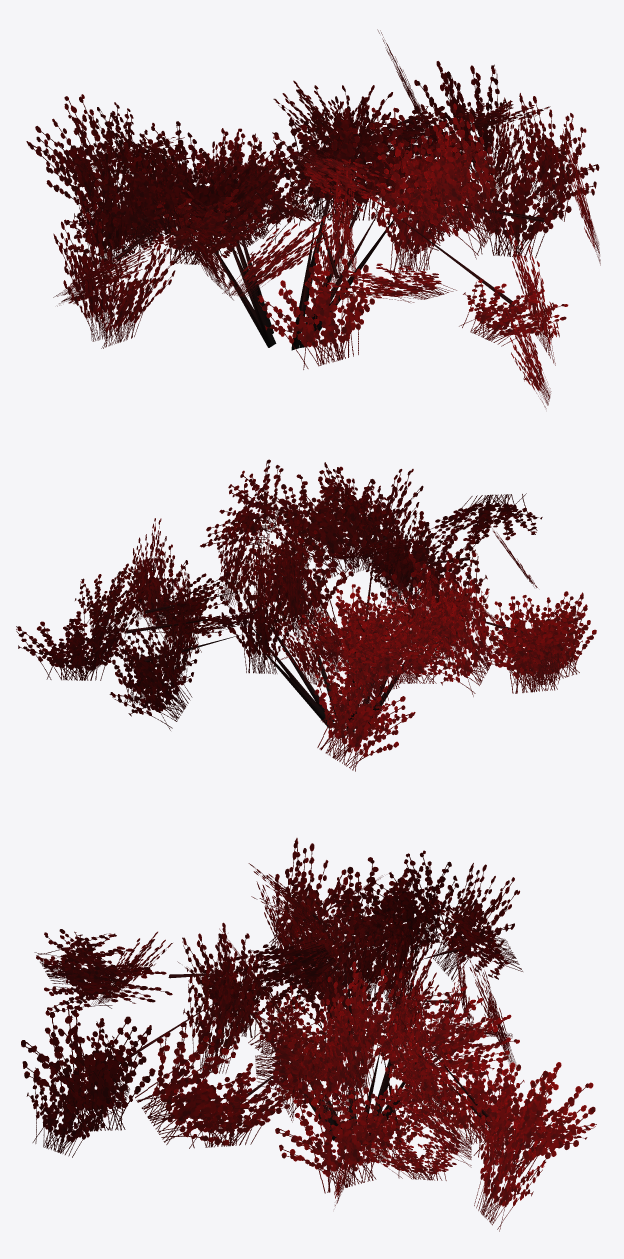
File: bush_highlands_heather_a_lod2.glb
3 renders of one model, top to bottom at view 1: azimuth 30°, elevation 25°; view 2: azimuth 150°, elevation 25°; view 3: azimuth 270°, elevation 25°, orthographic. The views are drawn at different scales.
Parts seen in each view (by area): view 1: bush_highlands_heather_a; view 2: bush_highlands_heather_a; view 3: bush_highlands_heather_a.
Boxes of the visible parts, box(x1,y1,x2,y2) form: bush_highlands_heather_a: box(26, 29, 600, 408); bush_highlands_heather_a: box(16, 459, 596, 771); bush_highlands_heather_a: box(21, 838, 596, 1231).
Size of the model in its own units: 1.62 by 0.6995 by 1.5.
1 material, 1 textured.
